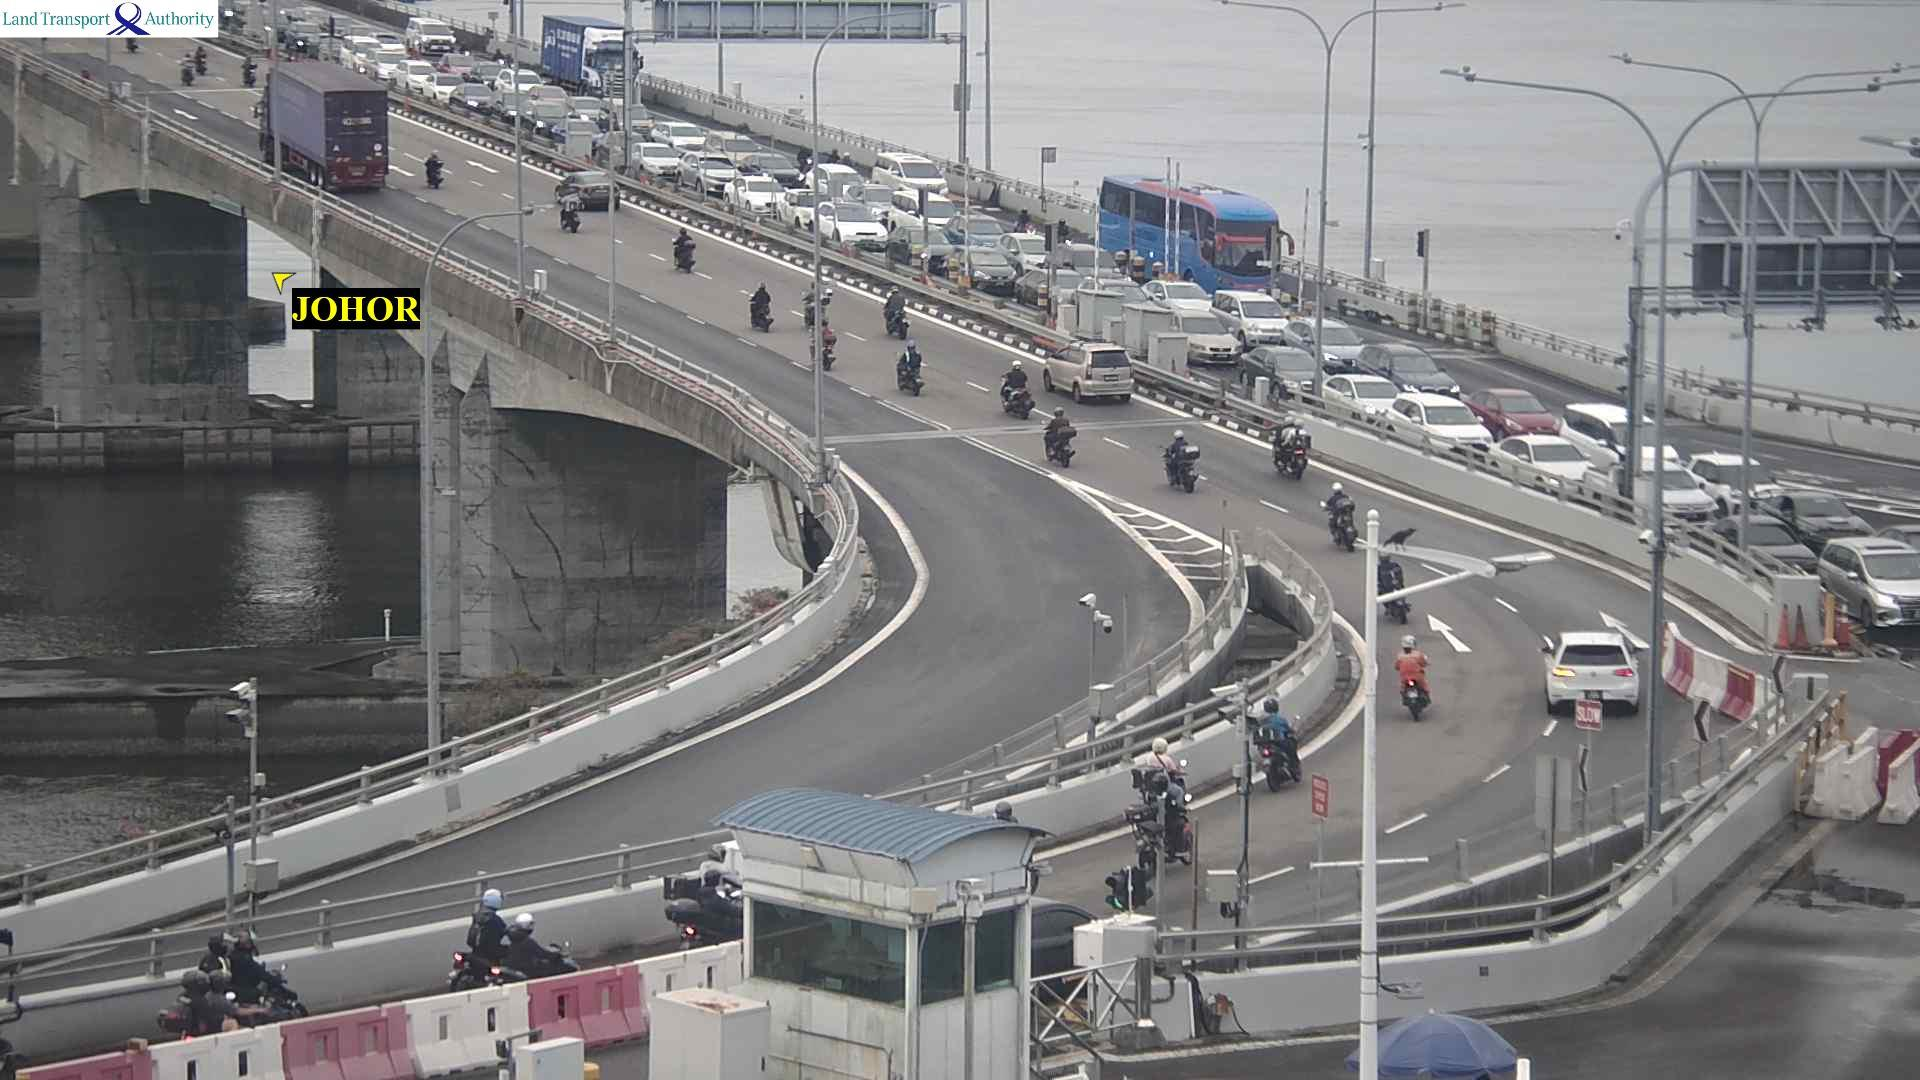vehicle-secondlink-johor: (266, 53, 386, 196), (164, 938, 315, 1036), (1551, 625, 1672, 712), (460, 915, 578, 989), (1043, 338, 1129, 398), (1133, 757, 1182, 862), (1394, 642, 1431, 715), (1134, 749, 1180, 800), (1328, 488, 1364, 551), (1160, 438, 1200, 495), (1271, 429, 1313, 480), (1391, 674, 1435, 720), (1043, 410, 1077, 464), (574, 175, 611, 218), (893, 345, 924, 392), (749, 285, 777, 330), (667, 227, 691, 268), (556, 185, 576, 232), (427, 148, 448, 191)
vehicle-secondlink-singapore: (1100, 177, 1283, 285), (546, 15, 651, 96), (1589, 469, 1739, 514), (1756, 495, 1882, 542), (1348, 348, 1464, 396), (887, 206, 1026, 243), (1662, 454, 1789, 493), (1383, 402, 1503, 443), (1490, 440, 1626, 476), (1270, 319, 1377, 361), (1560, 405, 1660, 448), (1319, 371, 1464, 400), (1464, 390, 1561, 433), (1822, 542, 1920, 583), (1236, 347, 1350, 378), (1215, 293, 1309, 328), (709, 146, 806, 181), (843, 183, 956, 212), (597, 145, 692, 177), (1017, 270, 1113, 301), (1313, 380, 1414, 409), (894, 200, 997, 228), (810, 211, 897, 243), (936, 215, 1025, 244), (878, 162, 953, 194), (1000, 236, 1072, 268), (1139, 285, 1217, 314), (798, 165, 869, 195), (716, 179, 803, 203), (633, 121, 711, 148), (671, 161, 749, 186), (407, 21, 473, 50), (1867, 520, 1920, 551), (723, 175, 808, 194), (443, 88, 508, 109), (351, 36, 414, 55)
